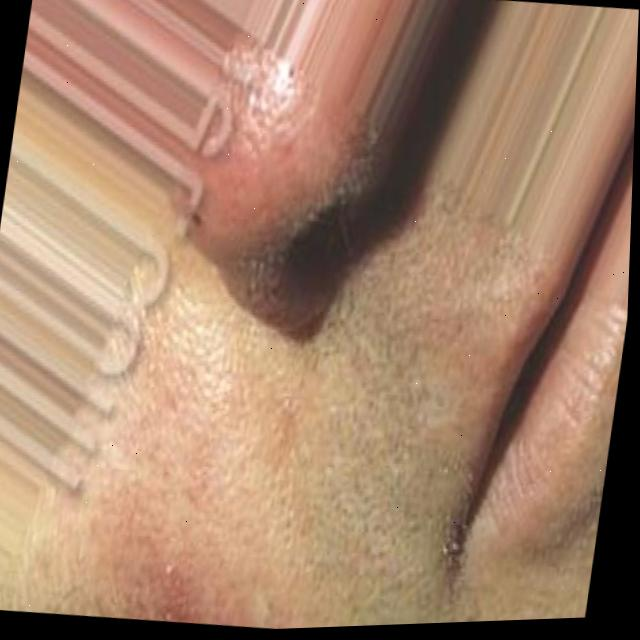Rosacea: (88, 535, 226, 629)
